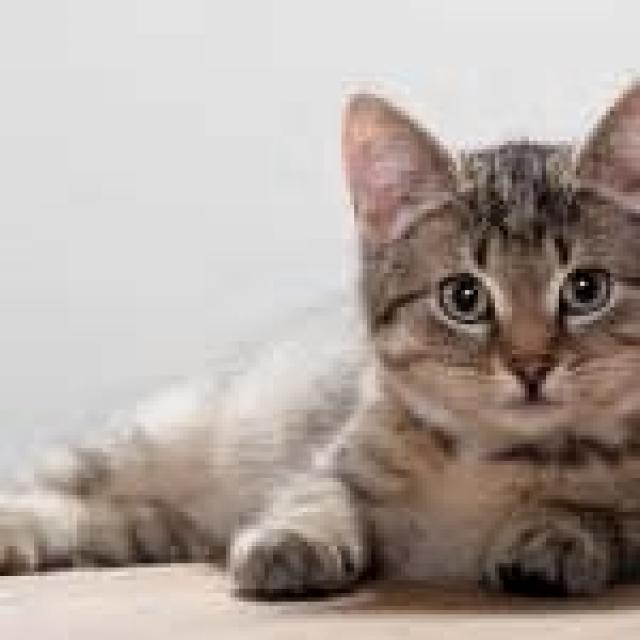KEDI: (21, 73, 640, 593)
